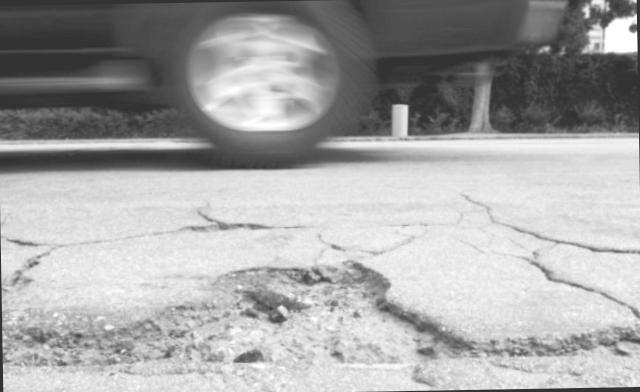Pothole: (1, 201, 640, 392)
